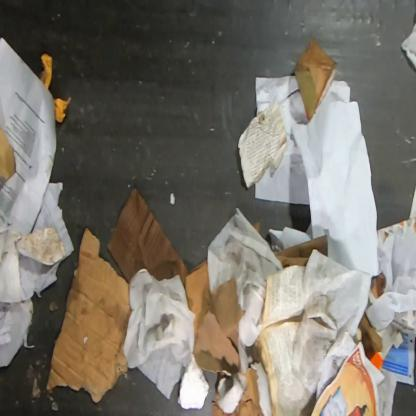cardboard: (45, 226, 131, 403), (185, 257, 275, 415), (106, 187, 192, 291), (0, 226, 67, 303), (293, 36, 339, 122), (272, 235, 328, 269), (0, 121, 16, 195), (252, 219, 261, 234)
soft_plastic: (400, 19, 415, 72)
